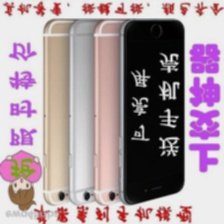phone: (88, 16, 159, 209), (115, 16, 185, 207), (64, 18, 133, 208), (38, 18, 99, 208)
